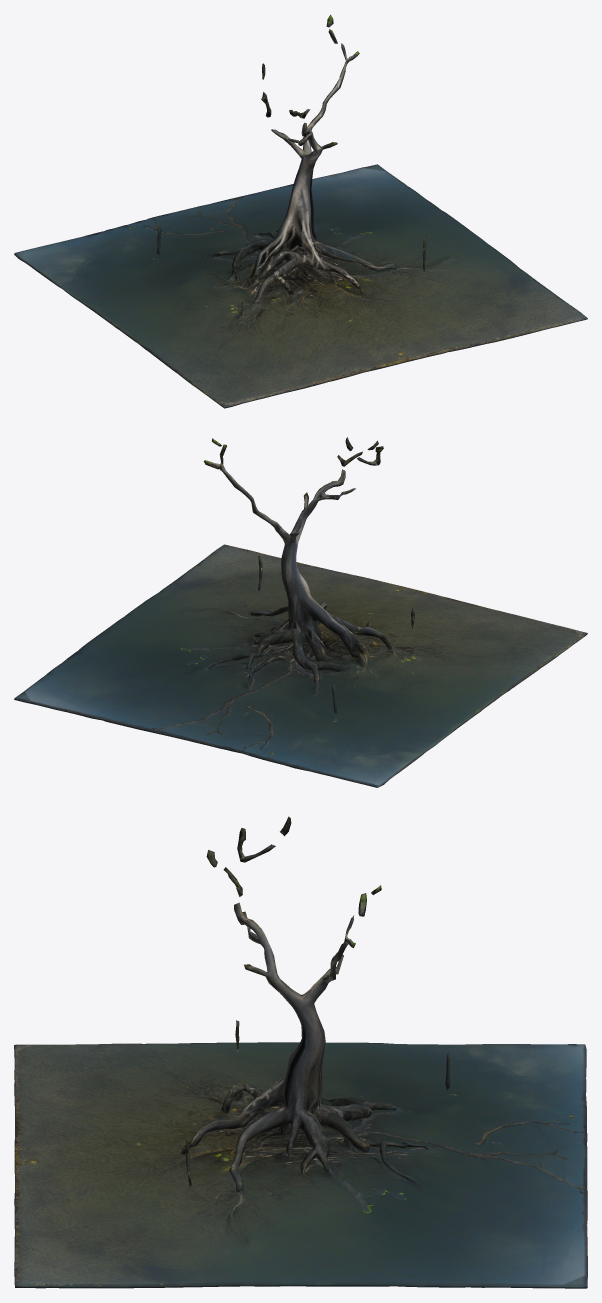
File: mangrove-three.glb
The picture shows the model from 3 angles, top to bottom: view 1: azimuth 30°, elevation 25°; view 2: azimuth 150°, elevation 25°; view 3: azimuth 270°, elevation 25°; orthographic projection. The views are drawn at different scales.
Bounding box in the file's own units: 2.01 × 1.27 × 2.01.
Materials: 1 (1 with a texture image).
